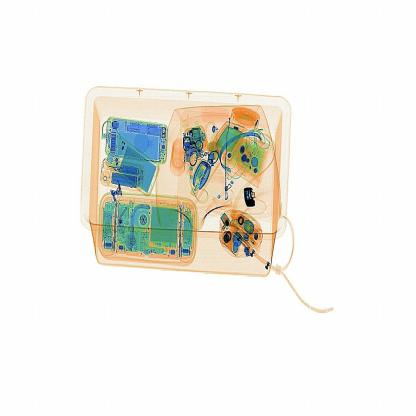wrench: (237, 176, 266, 214)
